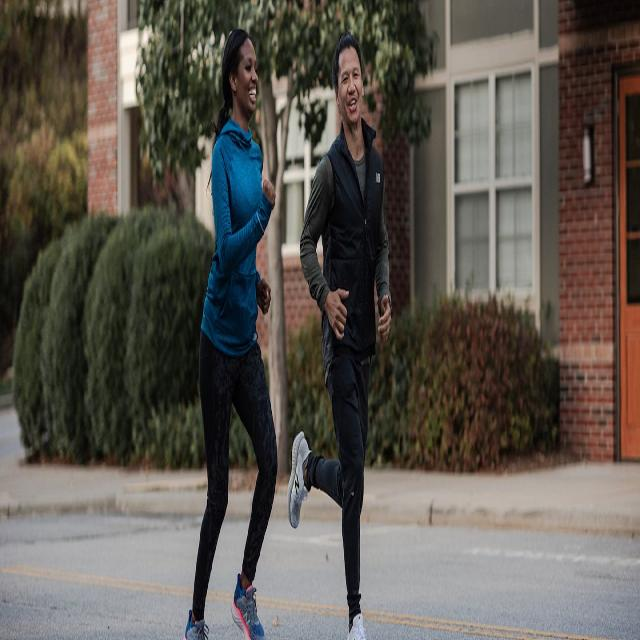Person: (286, 34, 390, 640), (186, 27, 278, 640)
